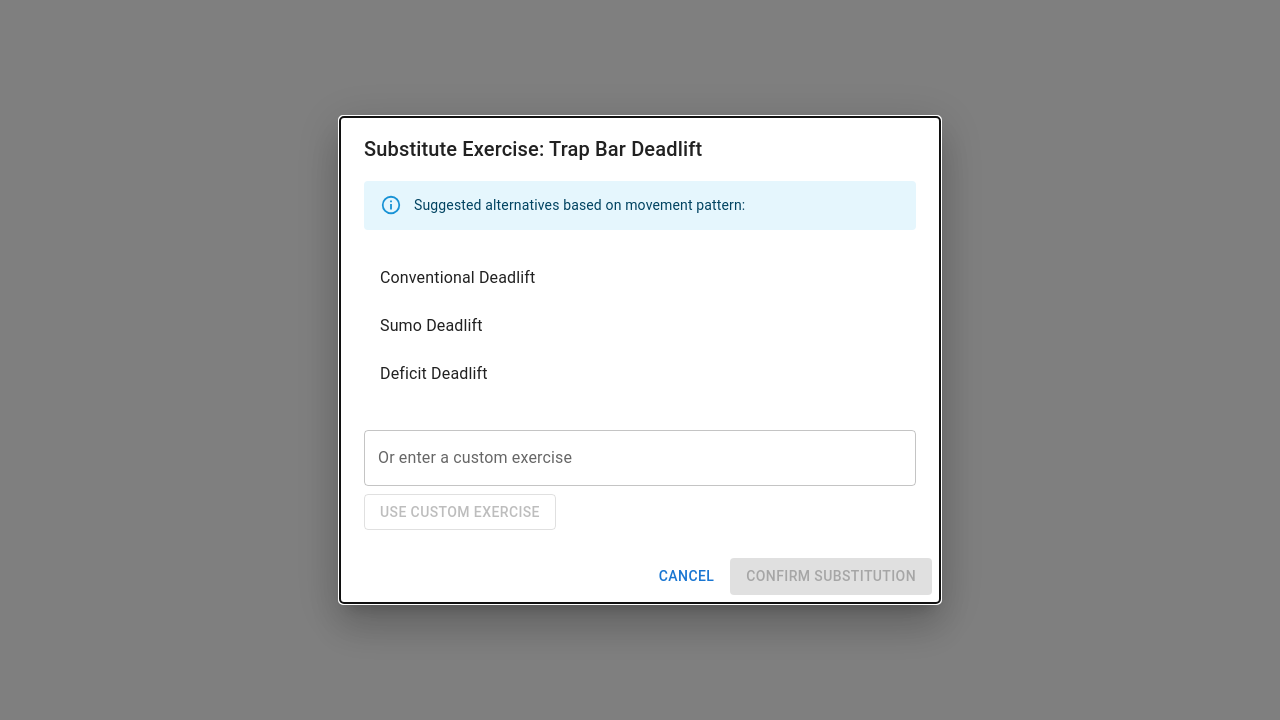
ExerciseSubstitutionModal › should display warning validation result with warning severity
Click on an alternative
Click the button "Conventional Deadlift" at (458, 277), box x1=380 y1=268 x2=535 y2=286
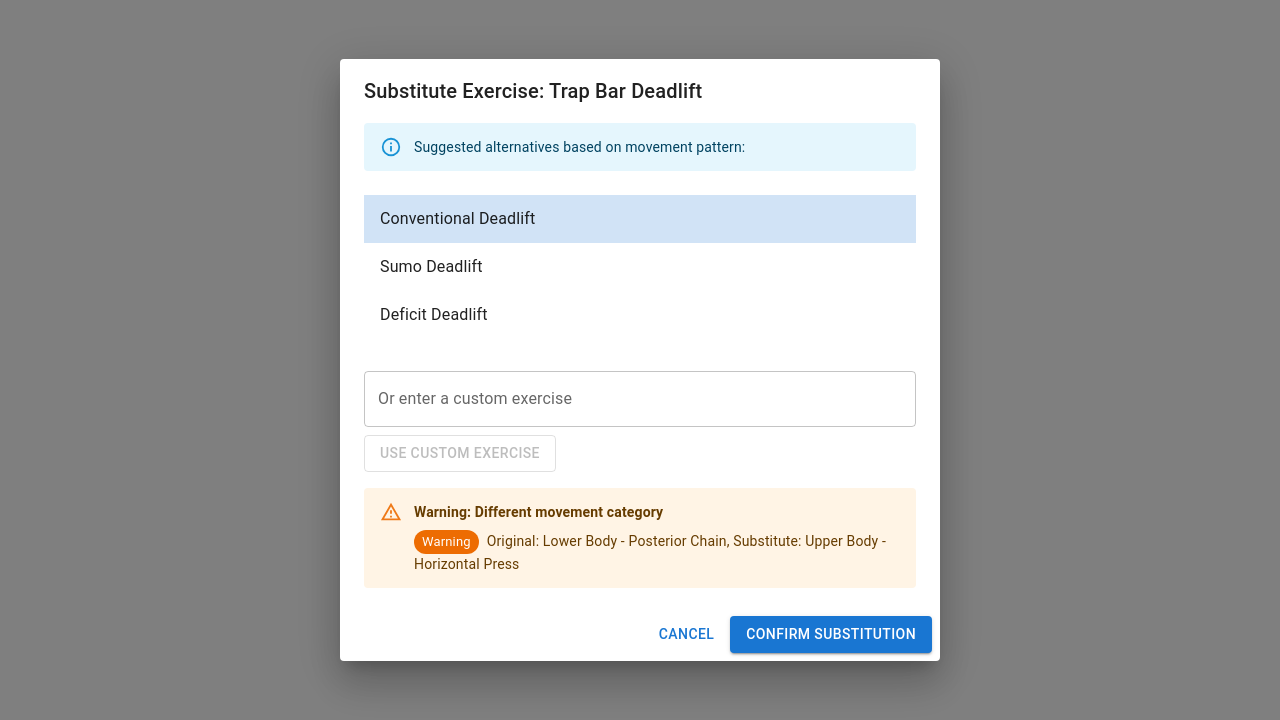
Check: the text "Warning: Different movement category" is shown, box x1=414 y1=504 x2=663 y2=520
